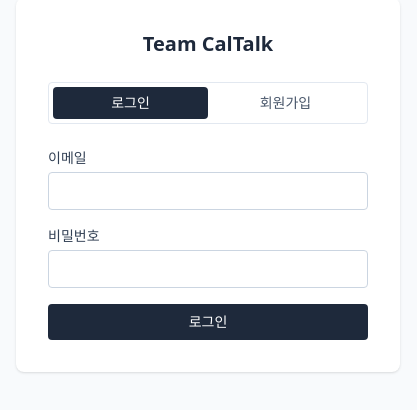
인증 화면 (FE-04 / UC-01 / SC-01) › 빈 입력 제출 시 zod 검증 에러를 표시하고 요청하지 않는다
Click the button "로그인" at (208, 322), box [48,304,368,340]
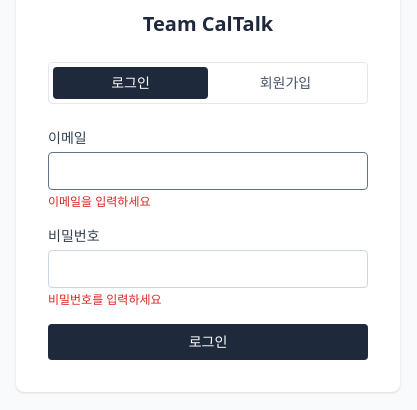
Expected: the text "이메일을 입력하세요" is shown, [48,193,150,210]
Expected: the text "비밀번호를 입력하세요" is shown, [48,291,162,308]
